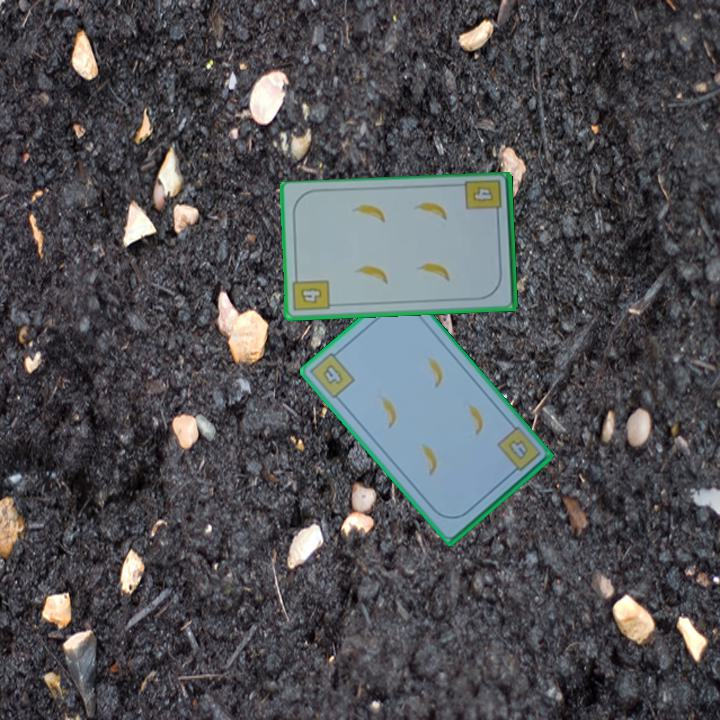4b: (308, 346, 358, 402), (462, 177, 505, 221), (289, 271, 332, 314), (504, 436, 531, 463)
